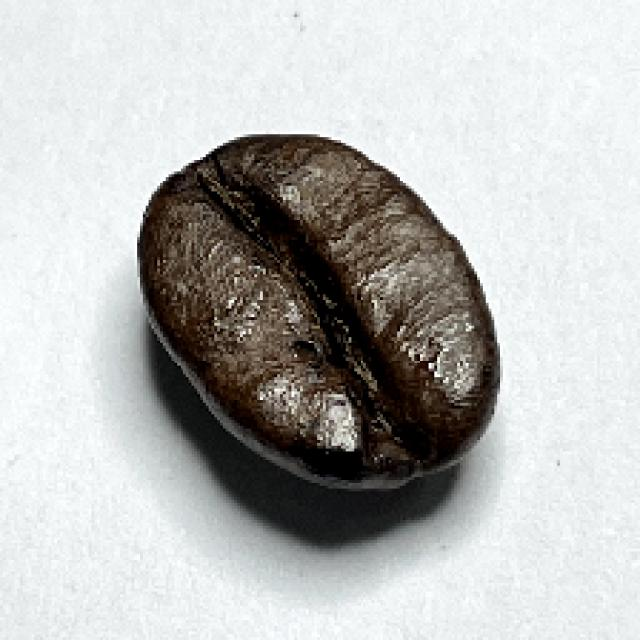bean: (129, 126, 508, 494)
